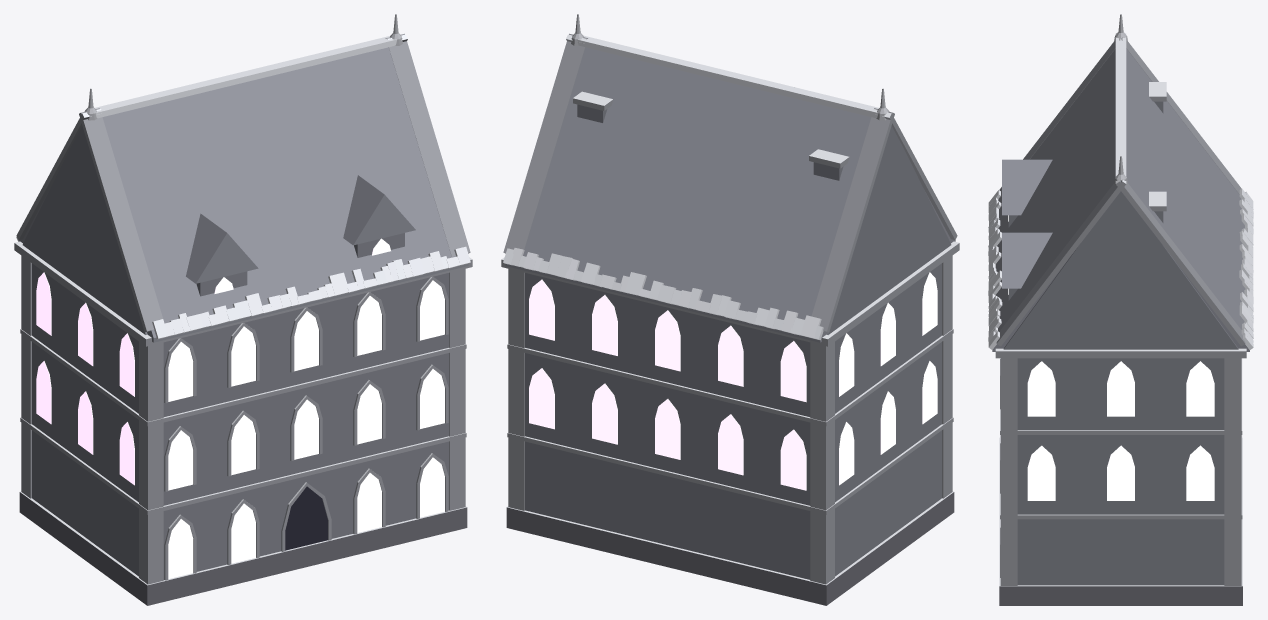
Rendered from AR_Lote_Cumeeira.fbx.
3 renders of one model, left to right at view 1: azimuth 30°, elevation 25°; view 2: azimuth 150°, elevation 25°; view 3: azimuth 270°, elevation 25°, orthographic. The views are drawn at different scales.
Visible parts, largest first — view 1: AR_Lote_Cumeeira; view 2: AR_Lote_Cumeeira; view 3: AR_Lote_Cumeeira.
Part boxes in pixels (x1,y1,x2,y2): AR_Lote_Cumeeira: (14,14,472,605); AR_Lote_Cumeeira: (501,14,959,605); AR_Lote_Cumeeira: (988,14,1253,605).
Size of the model in its own units: 16.6 by 22.75 by 12.27.
